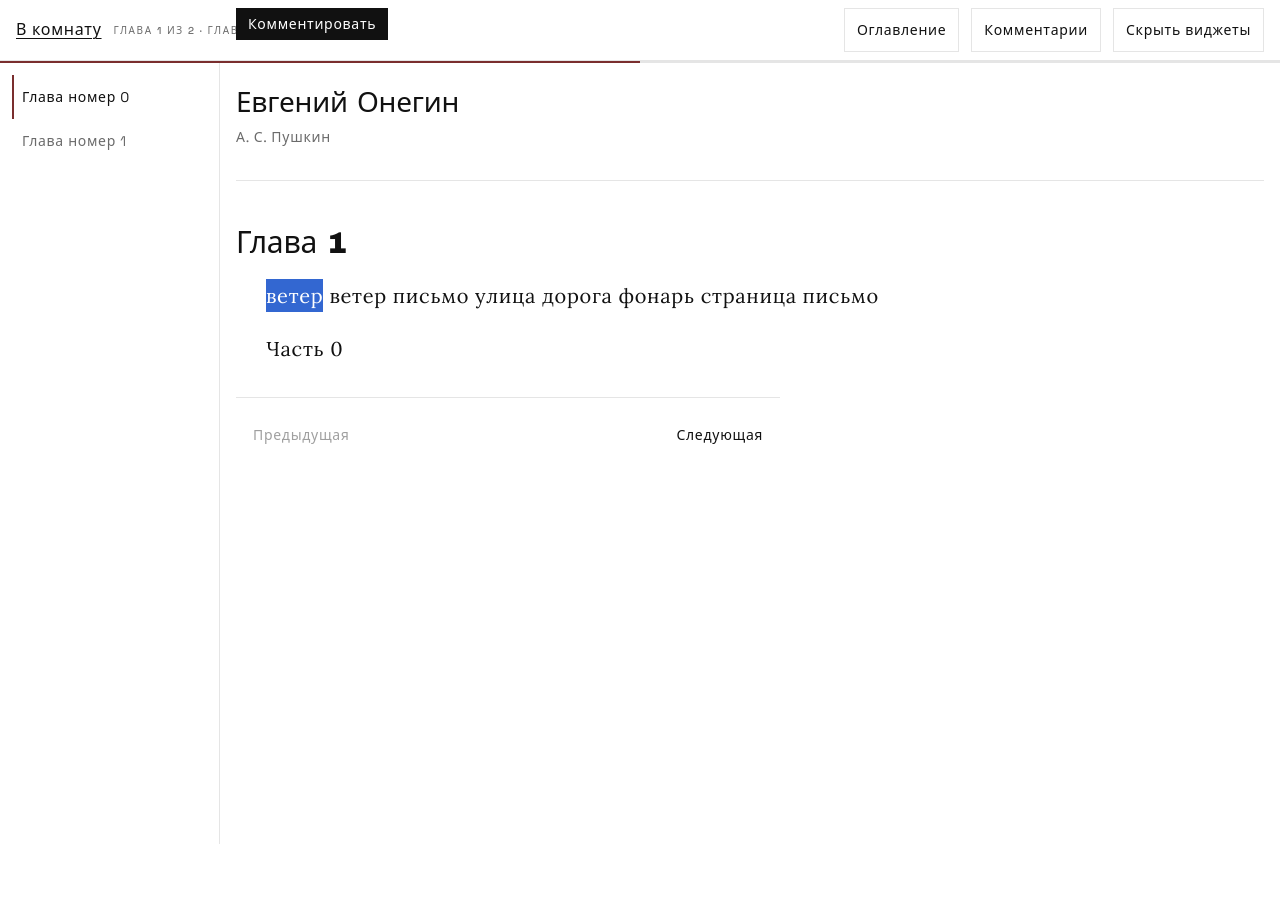
it: создание комментария целиком › окно закрывается, выделение снимается, показывается тост
Expected: the text "ветер ветер письмо улица дорога фонарь страница письмо" is shown, [236,279,916,312]
Click the button "Комментировать" at [312, 24], box [236,8,388,40]
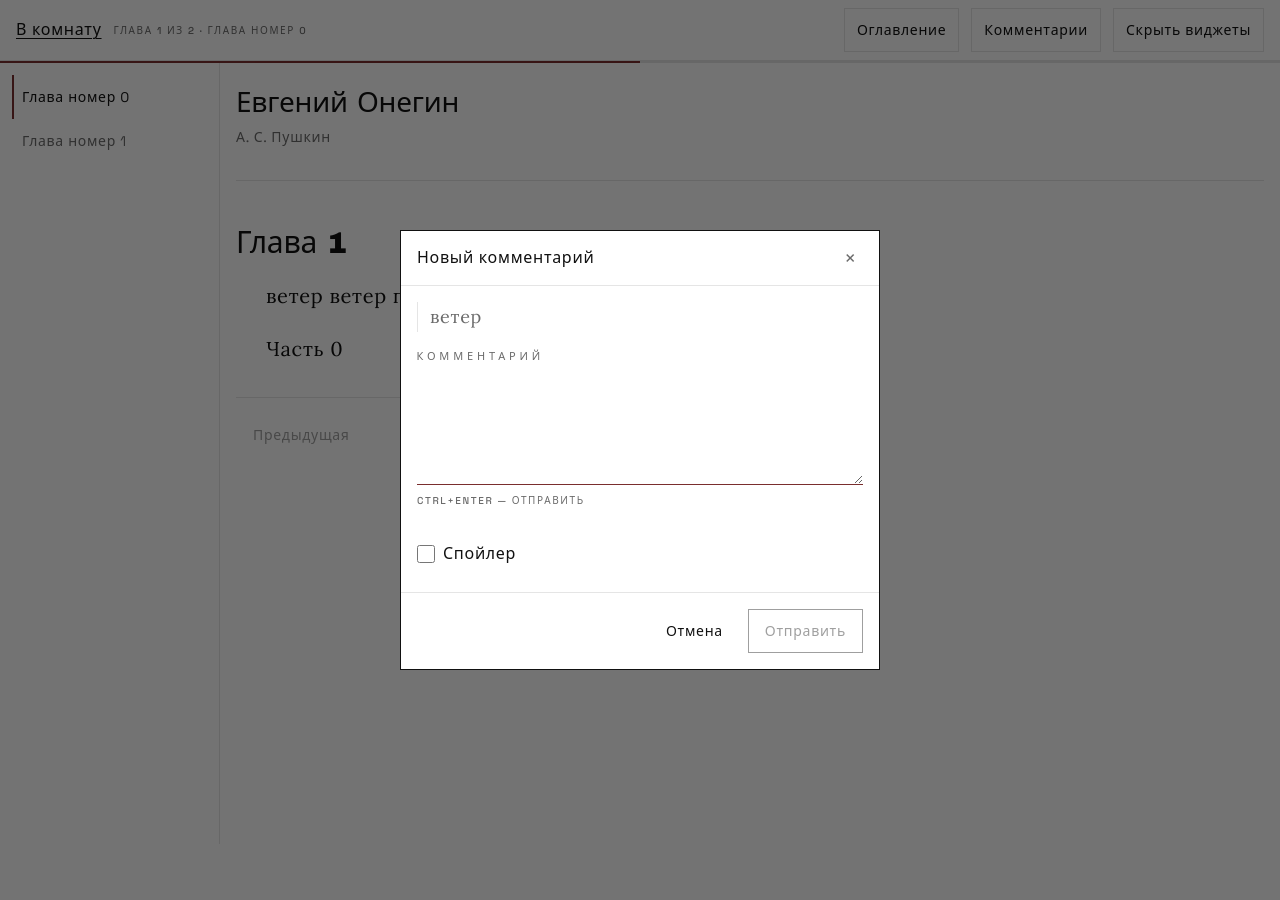
Type "Готово" into the text box labelled "Комментарий" at [640, 429], box [417,372,863,485]
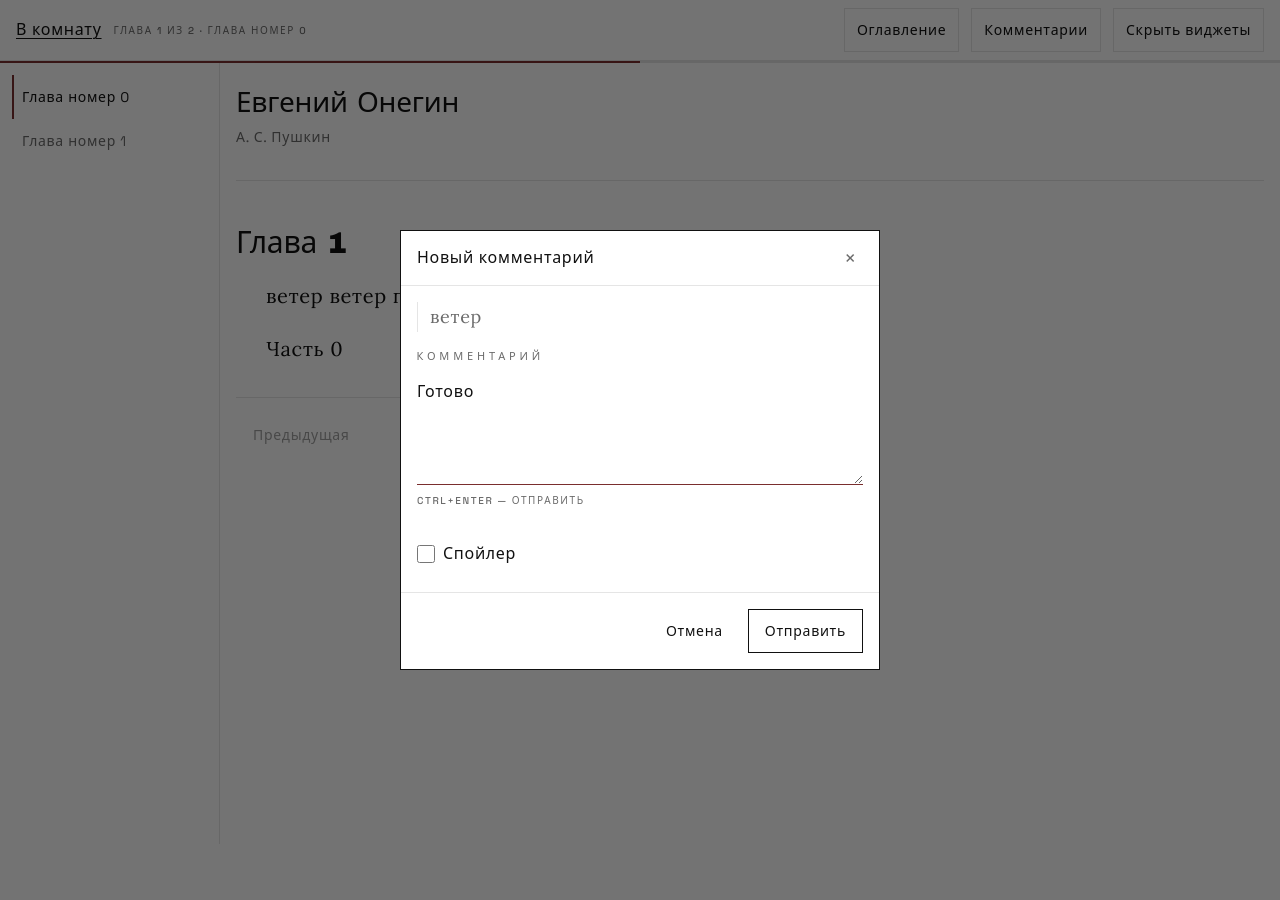
Click the button "Отправить" at [805, 631], box [748,609,863,653]
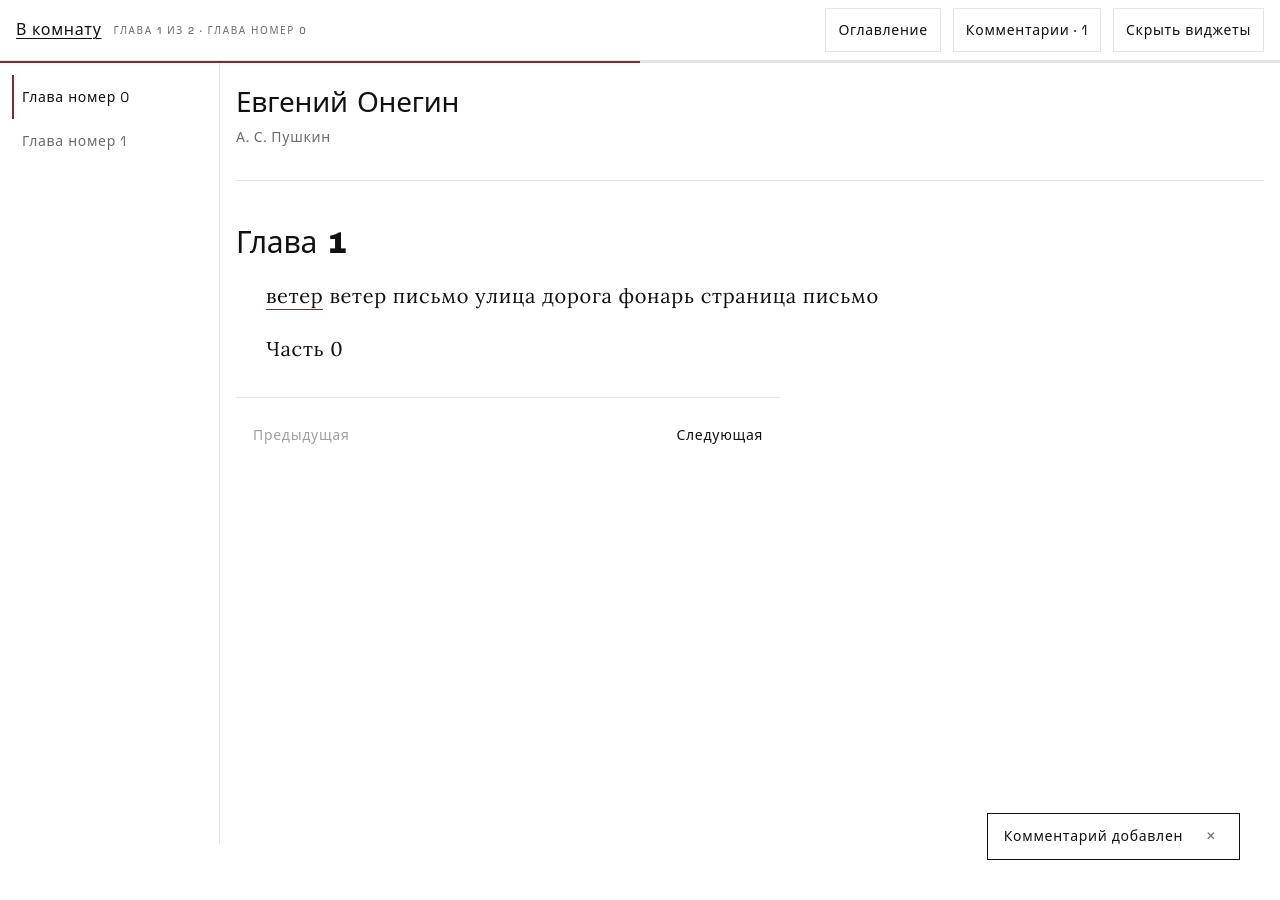
Expected: the dialog is gone
Expected: the text "Комментарий добавлен" is shown, [1004,826,1183,847]
